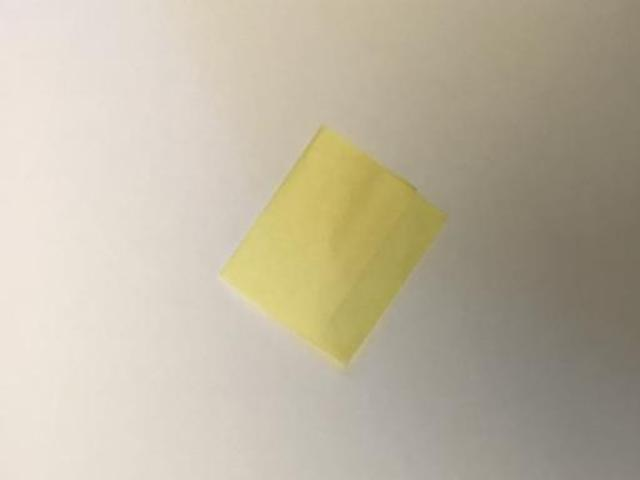cardboard paper: (220, 125, 444, 361)
